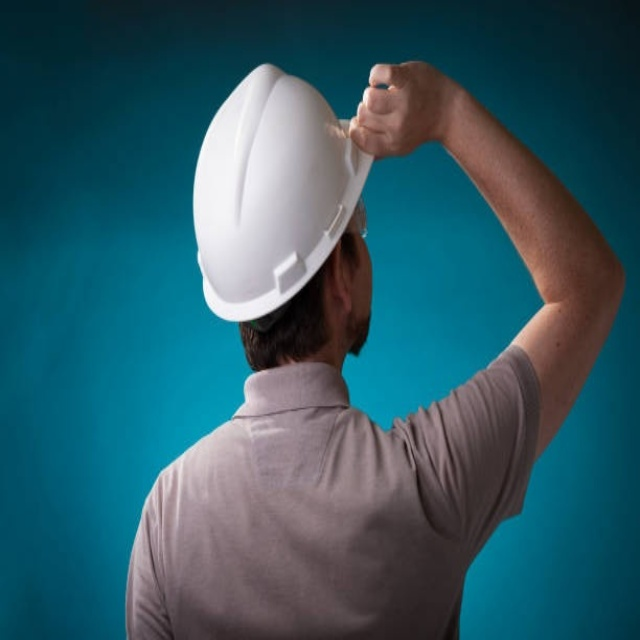Gafas: (348, 193, 368, 239)
Sin_guantes: (349, 59, 447, 161)
